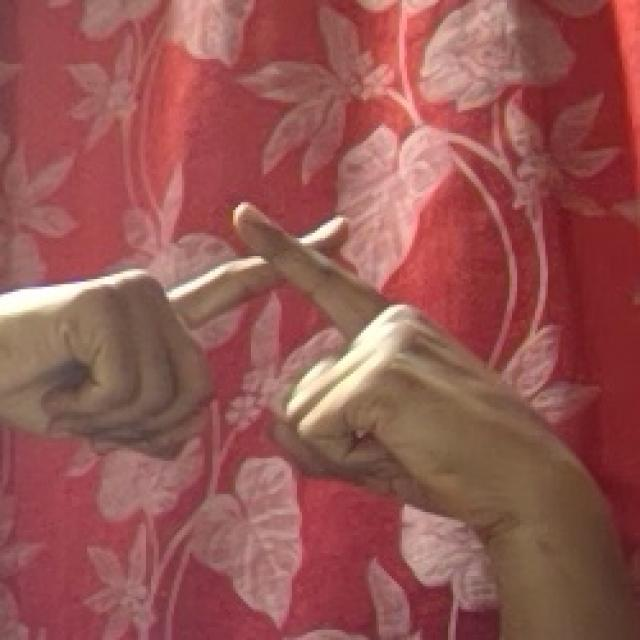Alphabet-X: (0, 200, 585, 520)
